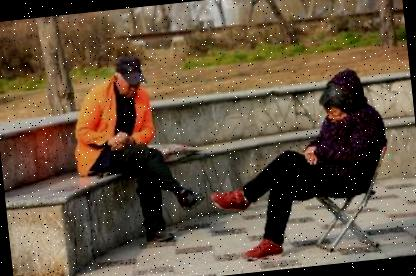person: (197, 62, 399, 268), (60, 44, 204, 254)
